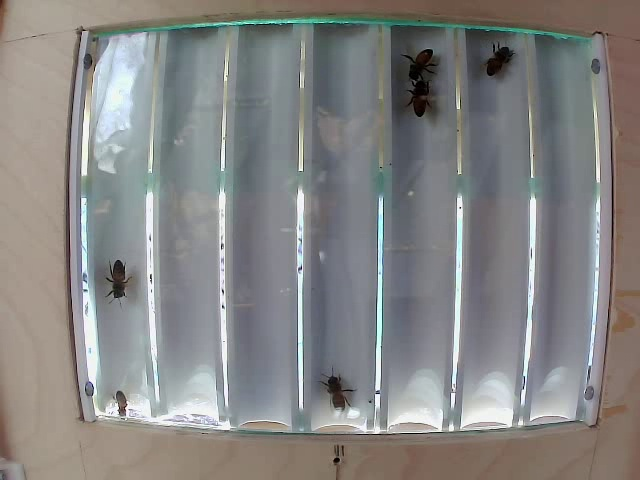bee: (314, 355, 365, 436), (95, 262, 134, 311), (483, 37, 518, 80), (406, 46, 438, 83), (403, 74, 428, 115)
